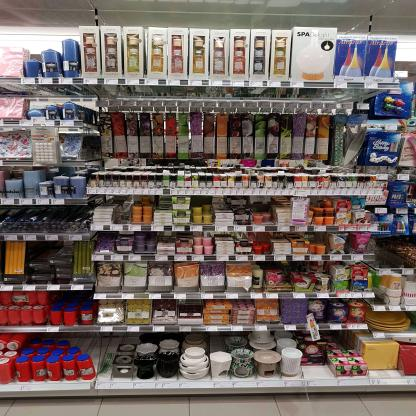Void: (380, 239, 399, 267), (32, 244, 51, 258)
